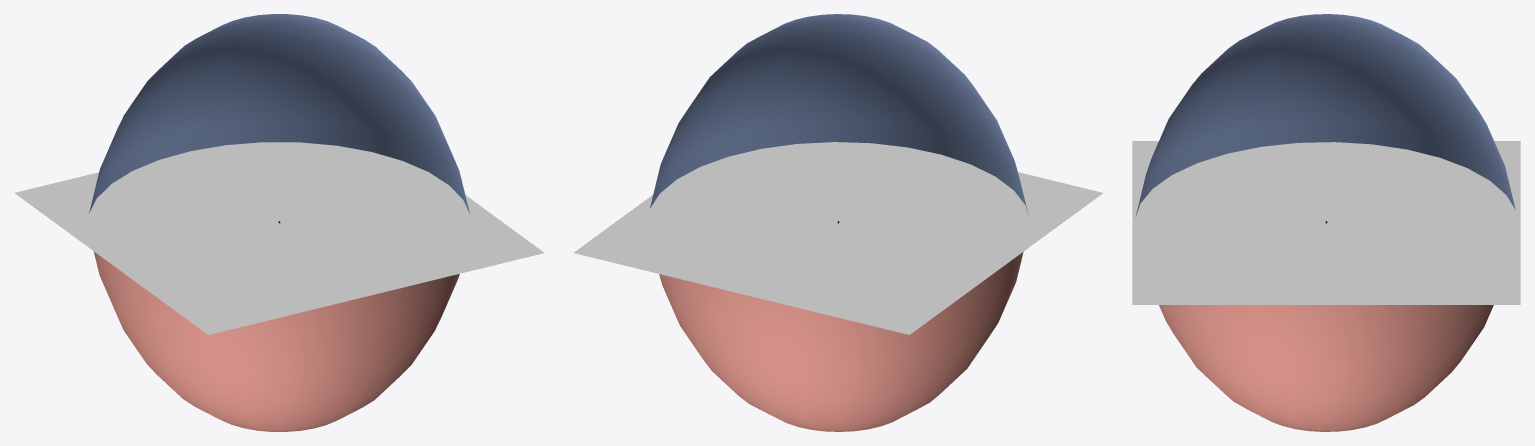
3 views of the same model, side by side, from view 1: azimuth 30°, elevation 25°; view 2: azimuth 150°, elevation 25°; view 3: azimuth 270°, elevation 25° (orthographic).
Parts seen in each view (by area): view 1: ground, sky, sky_reflect; view 2: ground, sky, sky_reflect; view 3: ground, sky, sky_reflect.
Boxes of the visible parts, x1,y1,x2,y2 form: ground: (14,142,544,334); sky: (89,14,469,213); sky_reflect: (93,251,459,431); ground: (574,142,1102,334); sky: (650,14,1028,216); sky_reflect: (659,252,1023,431); ground: (1132,141,1520,304); sky: (1135,14,1515,216); sky_reflect: (1159,305,1493,431).
Size of the model in its own units: 950 by 1058 by 950.
